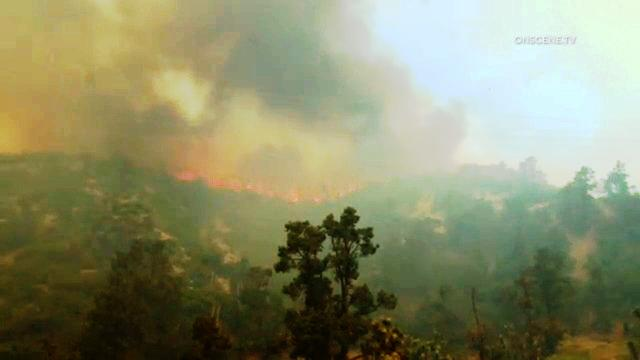fire: (234, 177, 357, 203)
smoke: (8, 2, 474, 120)
